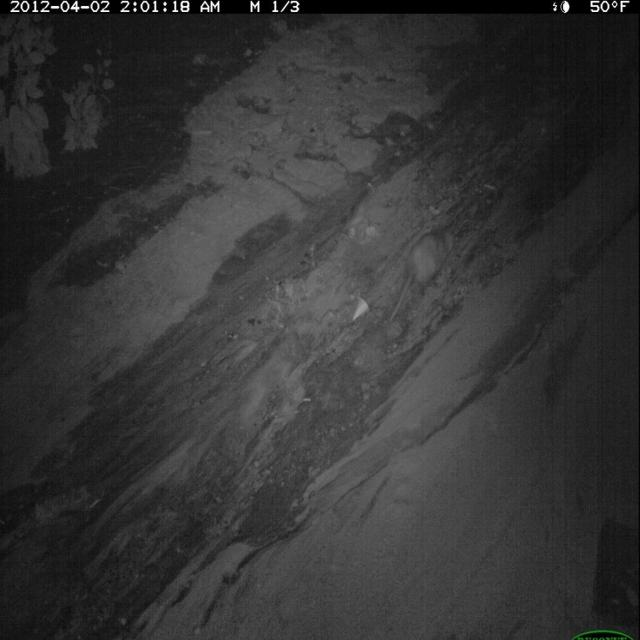opossum: (387, 219, 461, 327)
